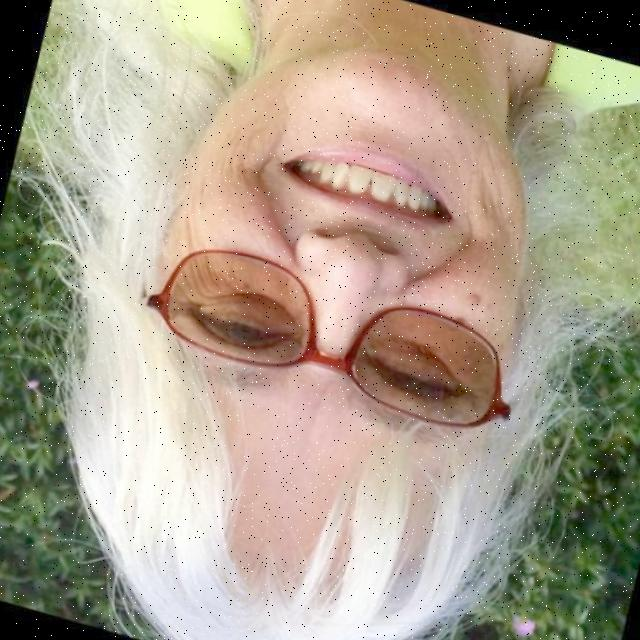puffy_eyes: (374, 337, 460, 387), (213, 295, 294, 333)
